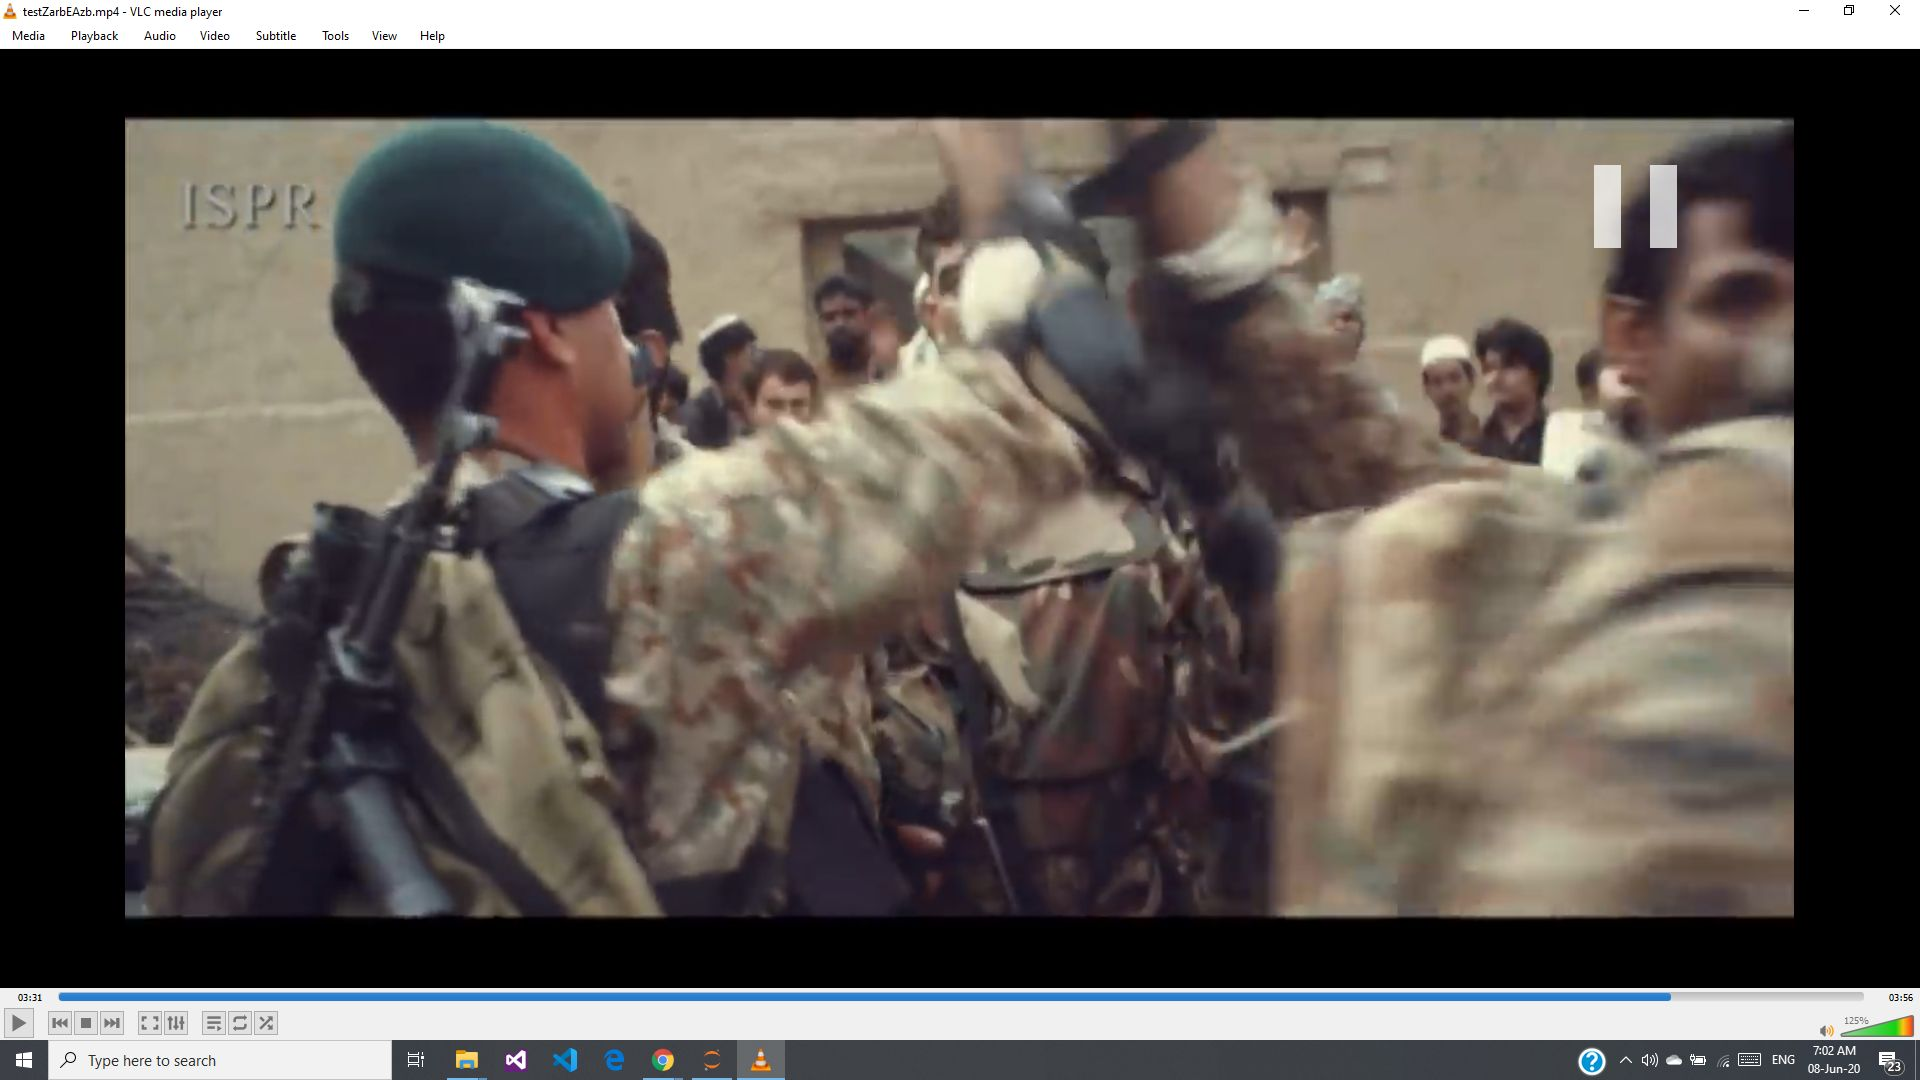gun: (252, 231, 508, 876)
uniform: (286, 394, 963, 947), (1300, 338, 1792, 915), (898, 199, 1267, 928)
